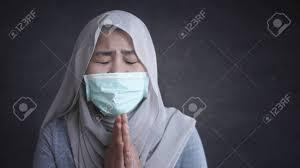Wearing Mask: (77, 20, 156, 118)
